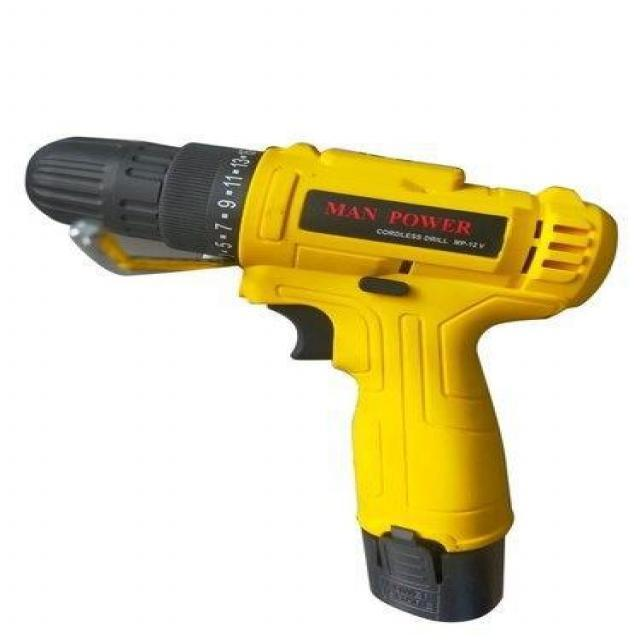drill: (24, 137, 620, 626)
